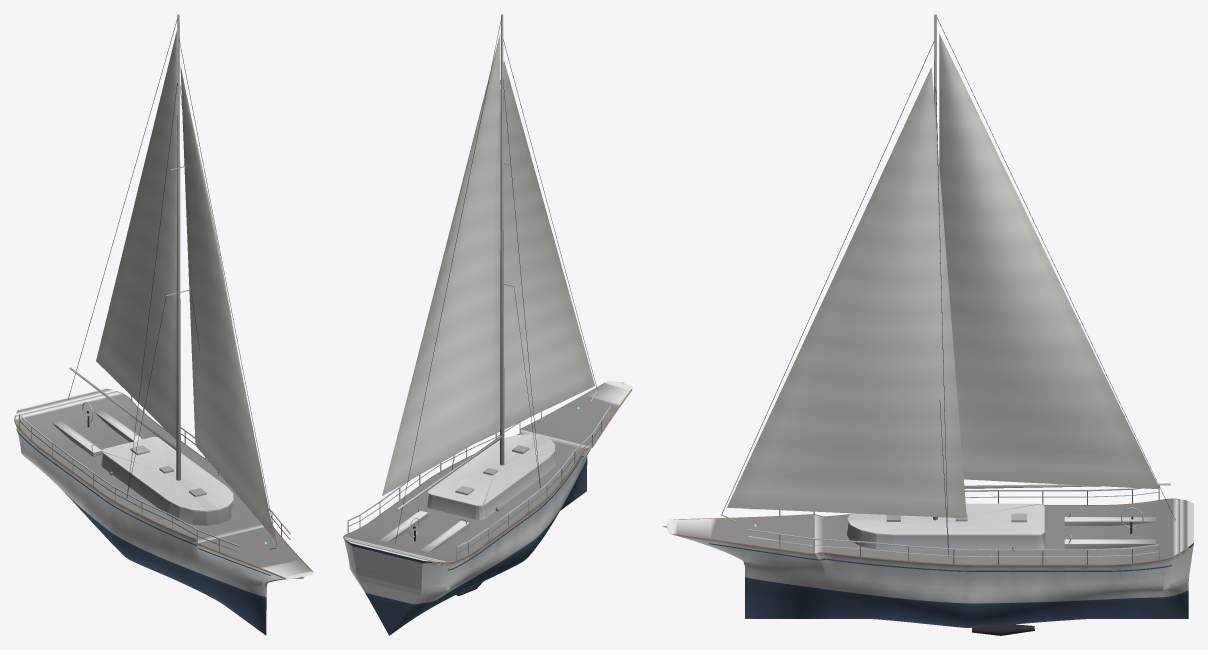
The model's file is segler.glb.
3 renders of one model, left to right at view 1: azimuth 30°, elevation 25°; view 2: azimuth 150°, elevation 25°; view 3: azimuth 270°, elevation 25°, orthographic. The views are drawn at different scales.
Parts seen in each view (by area): view 1: segel, trim, rumpf, rund; view 2: segel, trim, rumpf, rund; view 3: segel, rumpf, trim, rund.
Part boxes in pixels (x1,y1,x2,y2): segel: (96,31,274,539); trim: (15,387,314,579); rumpf: (16,426,303,635); rund: (14,14,312,579); segel: (382,34,594,495); trim: (344,381,633,562); rumpf: (344,382,623,635); rund: (343,14,632,596); segel: (727,34,1159,518); rumpf: (663,526,1193,627); trim: (666,499,1193,564); rund: (674,14,1188,635).
Bounding box in the file's own units: 5.44 × 26.26 × 20.38.
5 materials, 1 textured.
